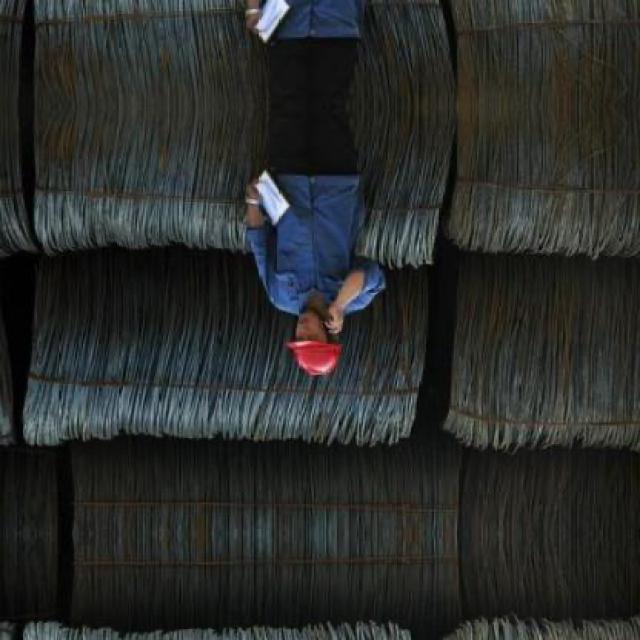safetyhelmet: (285, 312, 347, 379)
